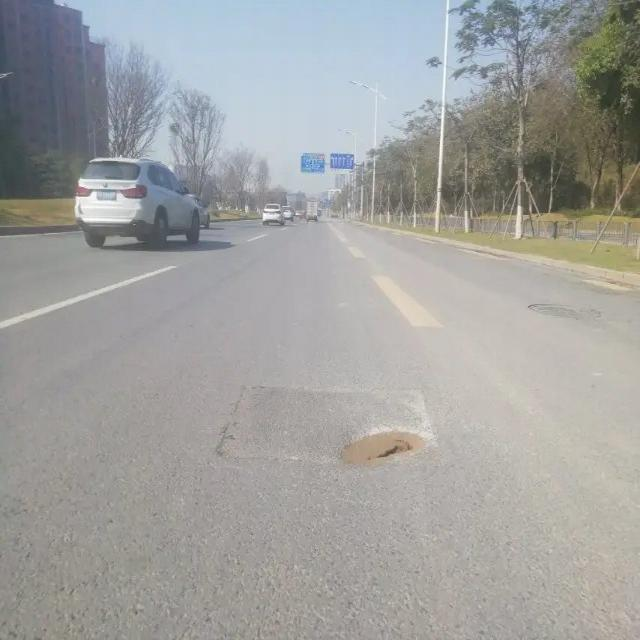Pothole: (340, 427, 427, 467)
